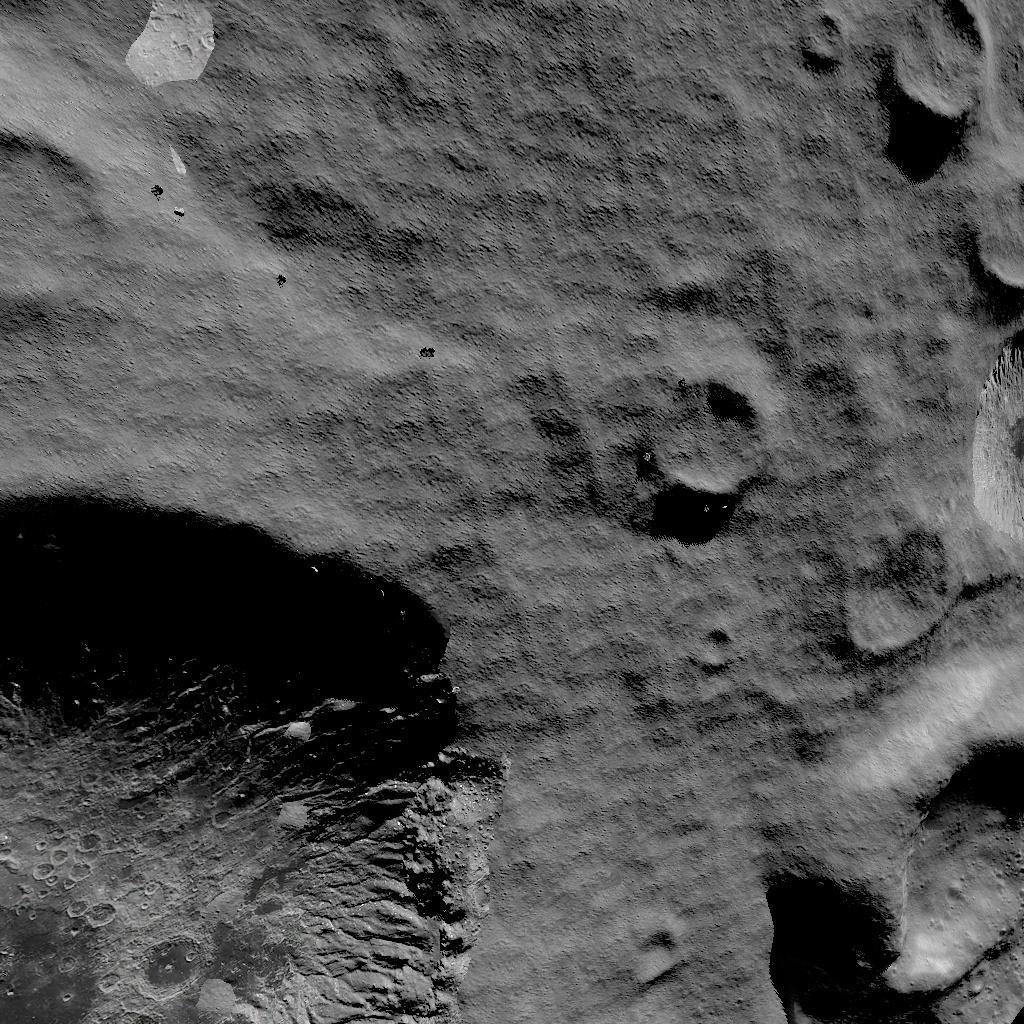Boulders: (132, 2, 229, 112)
Crater: (0, 497, 500, 1024), (819, 326, 1024, 665), (803, 714, 1024, 1024), (0, 140, 117, 342), (647, 374, 770, 506), (879, 0, 991, 134), (933, 184, 1024, 300), (795, 13, 852, 75)
Plan surface: (135, 177, 618, 470), (515, 760, 783, 982), (387, 0, 743, 153)
